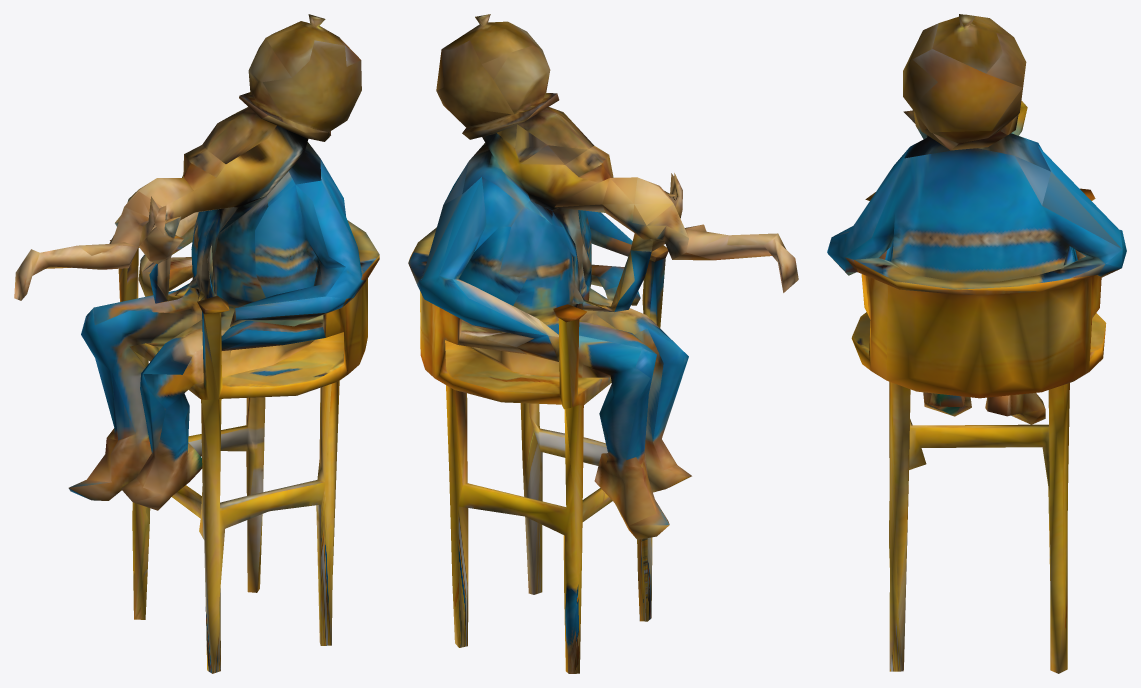
File: bosch_9.glb
The picture shows the model from 3 angles, left to right: view 1: azimuth 30°, elevation 25°; view 2: azimuth 150°, elevation 25°; view 3: azimuth 270°, elevation 25°; orthographic projection. The views are drawn at different scales.
Parts seen in each view (by area): view 1: Mesh1_Mesh1.019; view 2: Mesh1_Mesh1.019; view 3: Mesh1_Mesh1.019.
Boxes of the visible parts, x1,y1,x2,y2 form: Mesh1_Mesh1.019: (14,14,379,673); Mesh1_Mesh1.019: (408,14,798,673); Mesh1_Mesh1.019: (827,14,1126,673).
Size of the model in its own units: 1.19 by 1.94 by 0.7916.
Materials: 1 (1 with a texture image).
